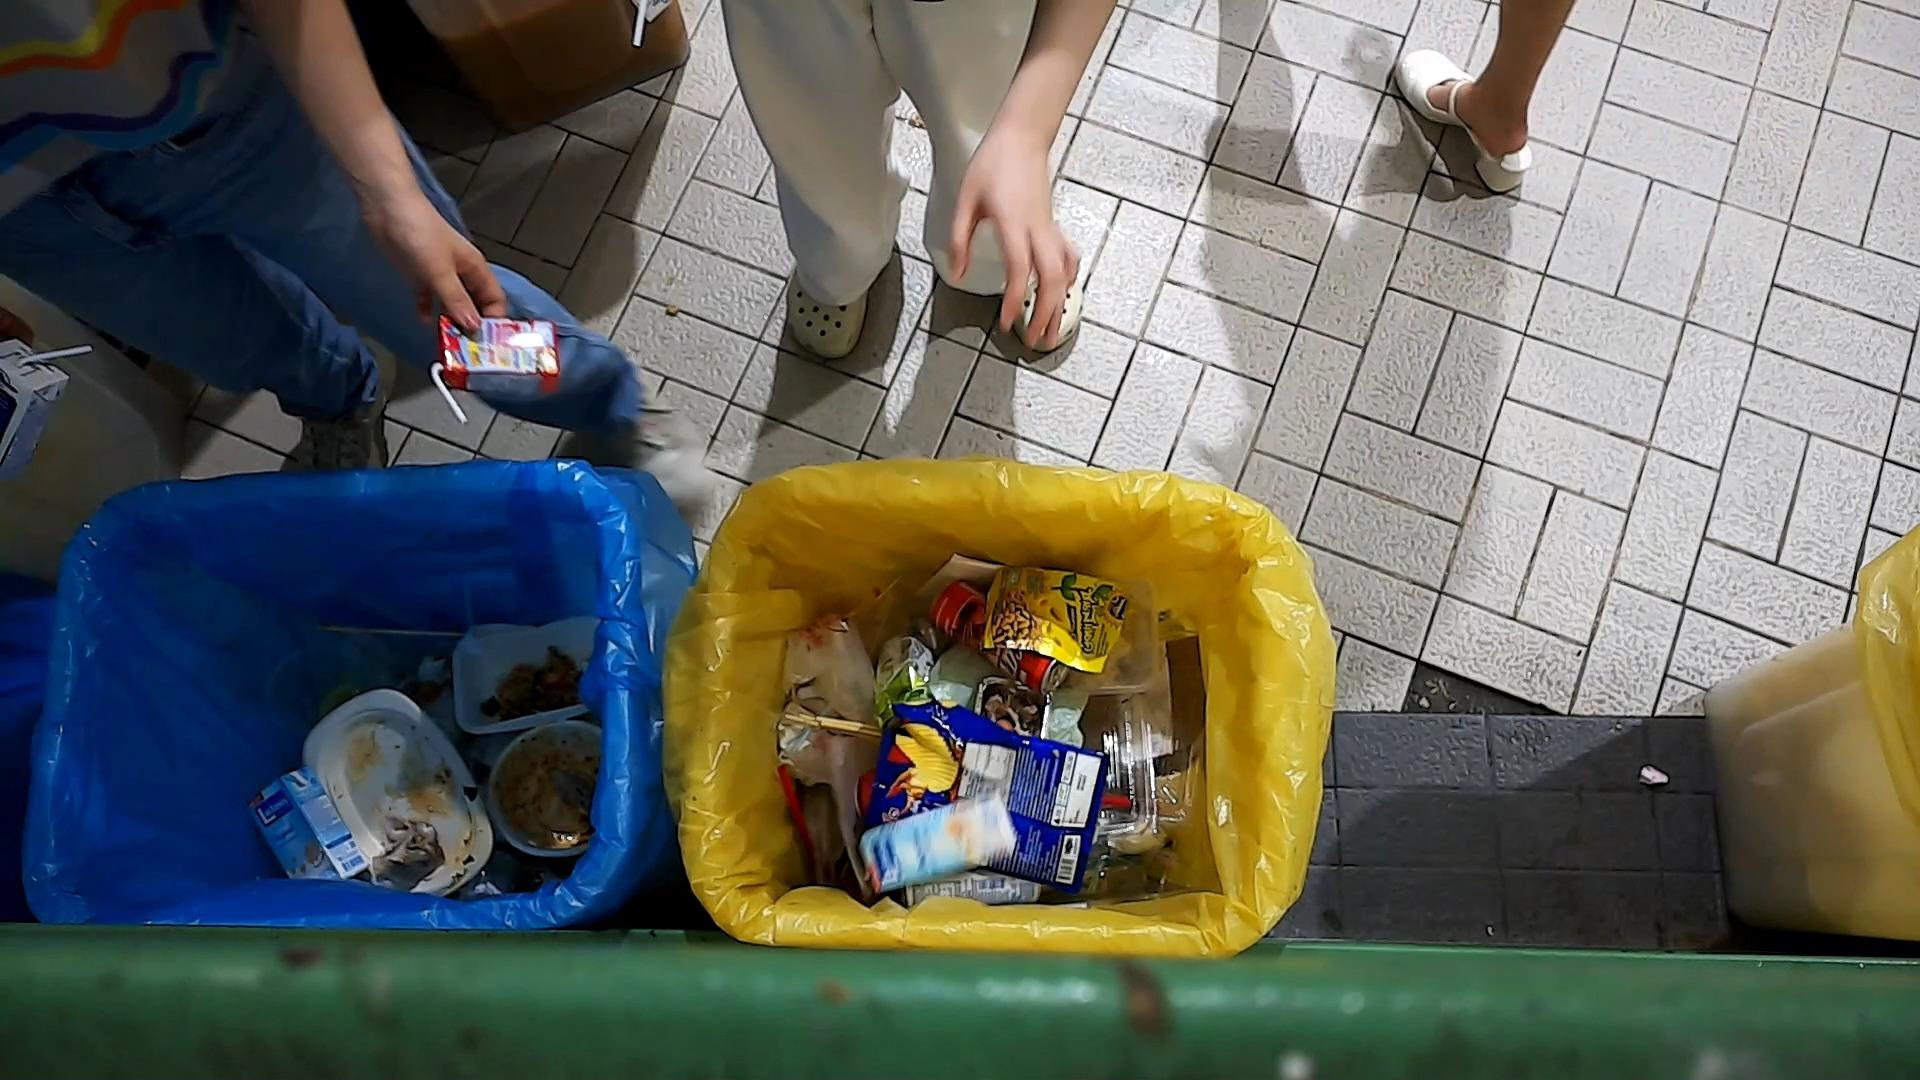can: (928, 574, 1067, 698), (872, 633, 935, 711)
dirty food container: (301, 678, 487, 897), (481, 721, 608, 870), (447, 615, 597, 736)
milk carton: (856, 790, 1017, 895), (422, 306, 566, 419), (0, 326, 87, 489), (244, 769, 365, 882)
snack packaging: (870, 688, 1114, 880), (980, 563, 1130, 673)
straw: (777, 764, 827, 878)
